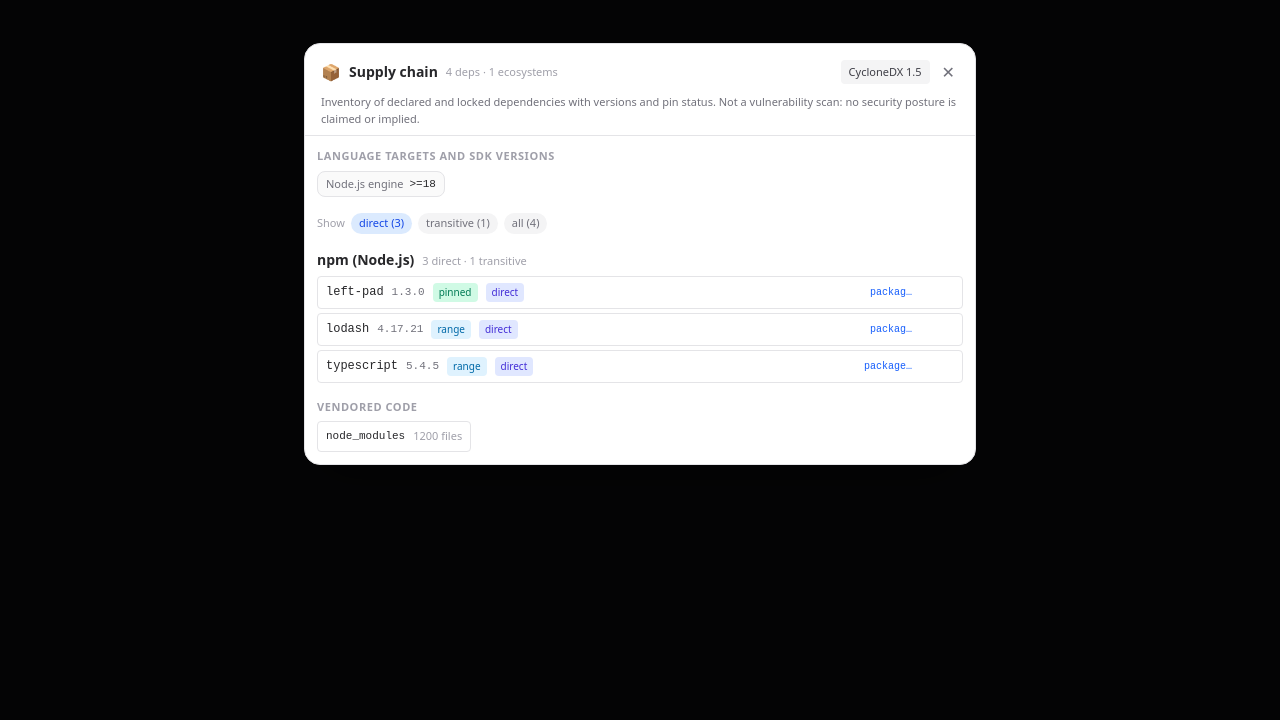
Scenario: SupplyChainSurface › defaults to direct scope and switches to all
Expected: the text "left-pad" is shown, [326,284,384,300]
Expected: the text "undici" is not shown
# Switch to all: the transitive dep appears.
Click the button "all (4)".
click(526, 223)  # box [504,213,547,234]
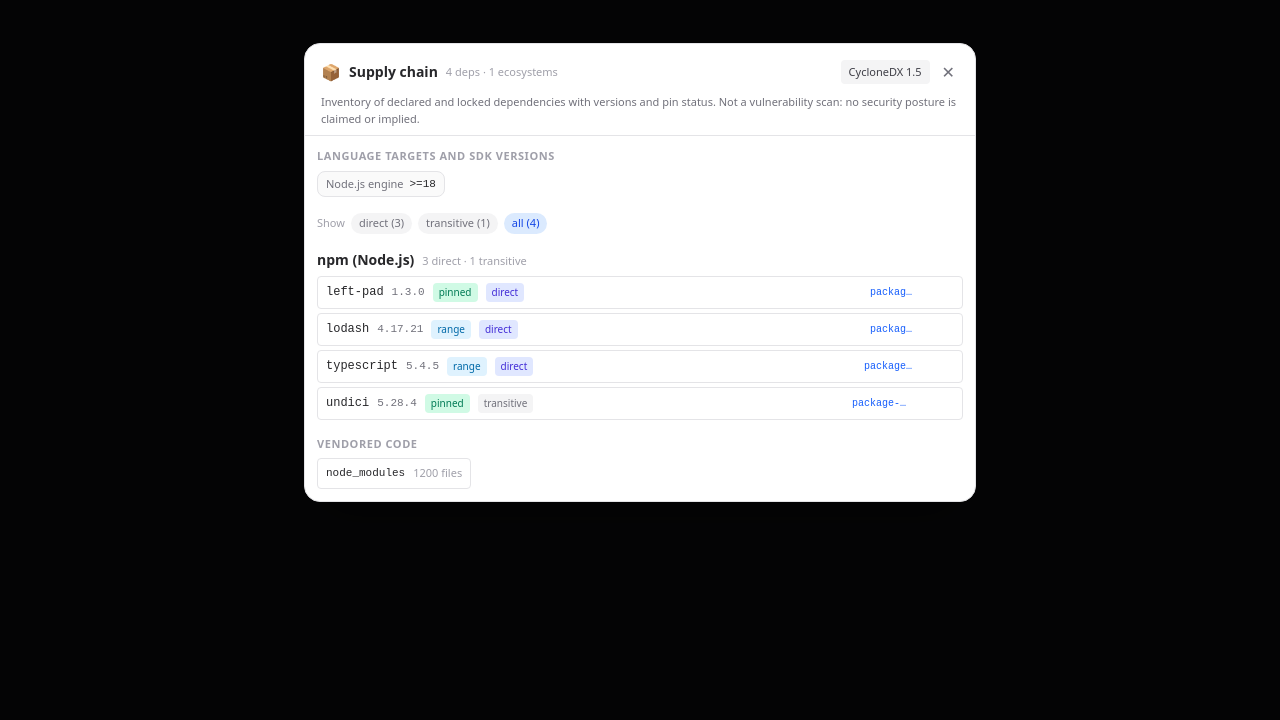
Expected: the text "undici" is shown, [326,395,369,411]
